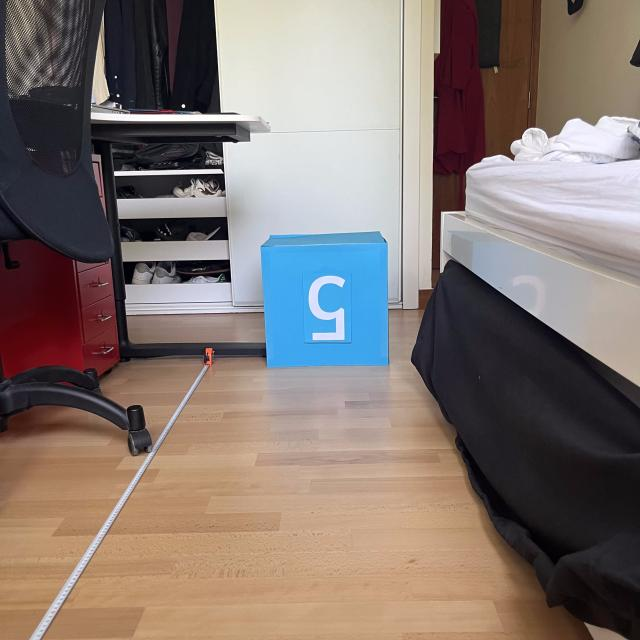box: (256, 226, 393, 370)
